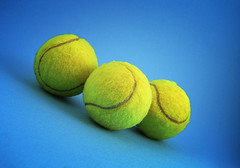tennis ball: (81, 59, 153, 132), (33, 33, 98, 97), (135, 78, 191, 141)
